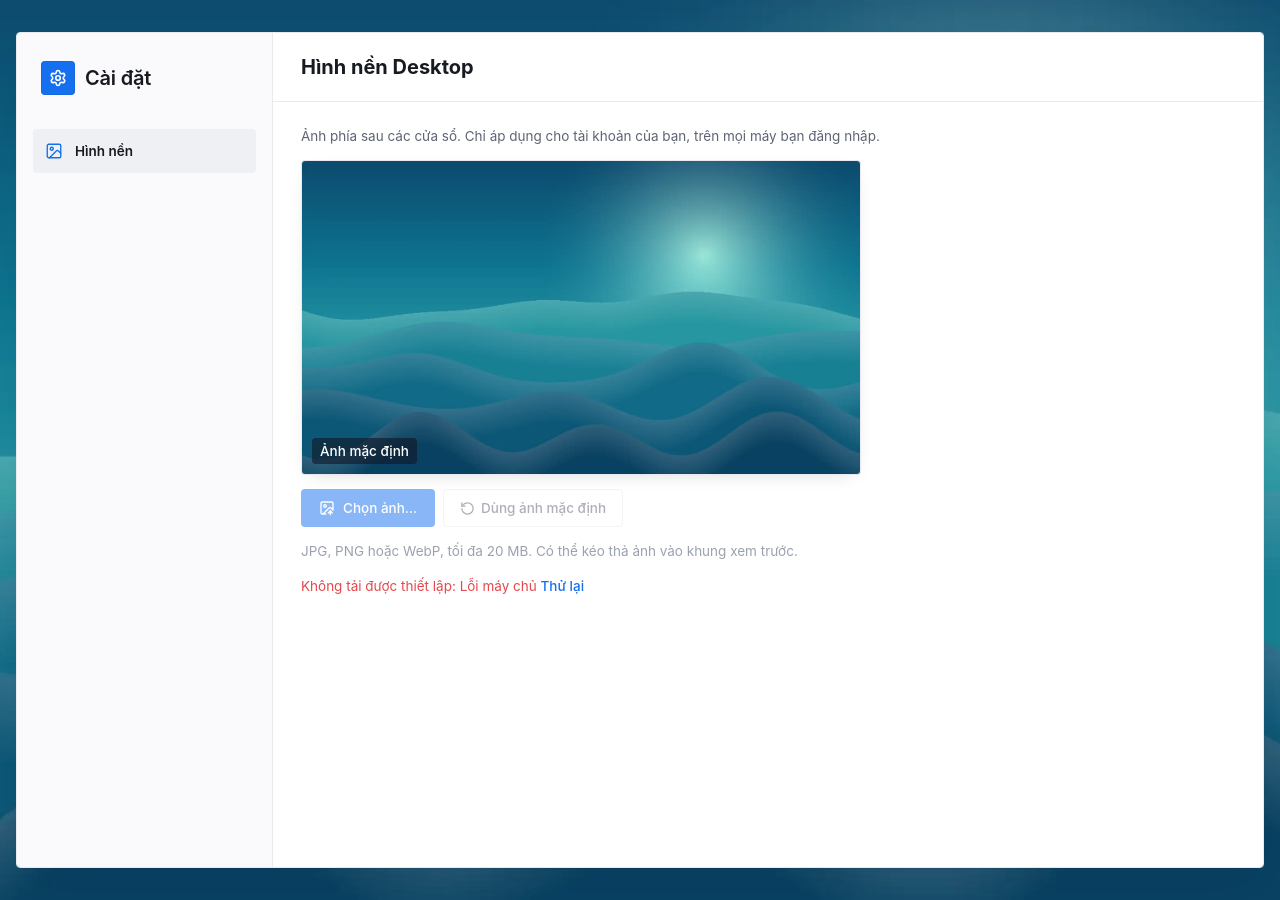
Test case: SettingsApp — desktop wallpaper (CONTRACT §10) › reports a failed read with a retry, and an expired session
Expected: the message with test id "settings-load-error" shows "Không tải được thiết lập: Lỗi máy chủ", x1=301 y1=576 x2=584 y2=596
Expected: the button with test id "wallpaper-choose" is disabled, x1=301 y1=489 x2=435 y2=527
Click the button "Thử lại" at (562, 586), box x1=540 y1=576 x2=584 y2=596
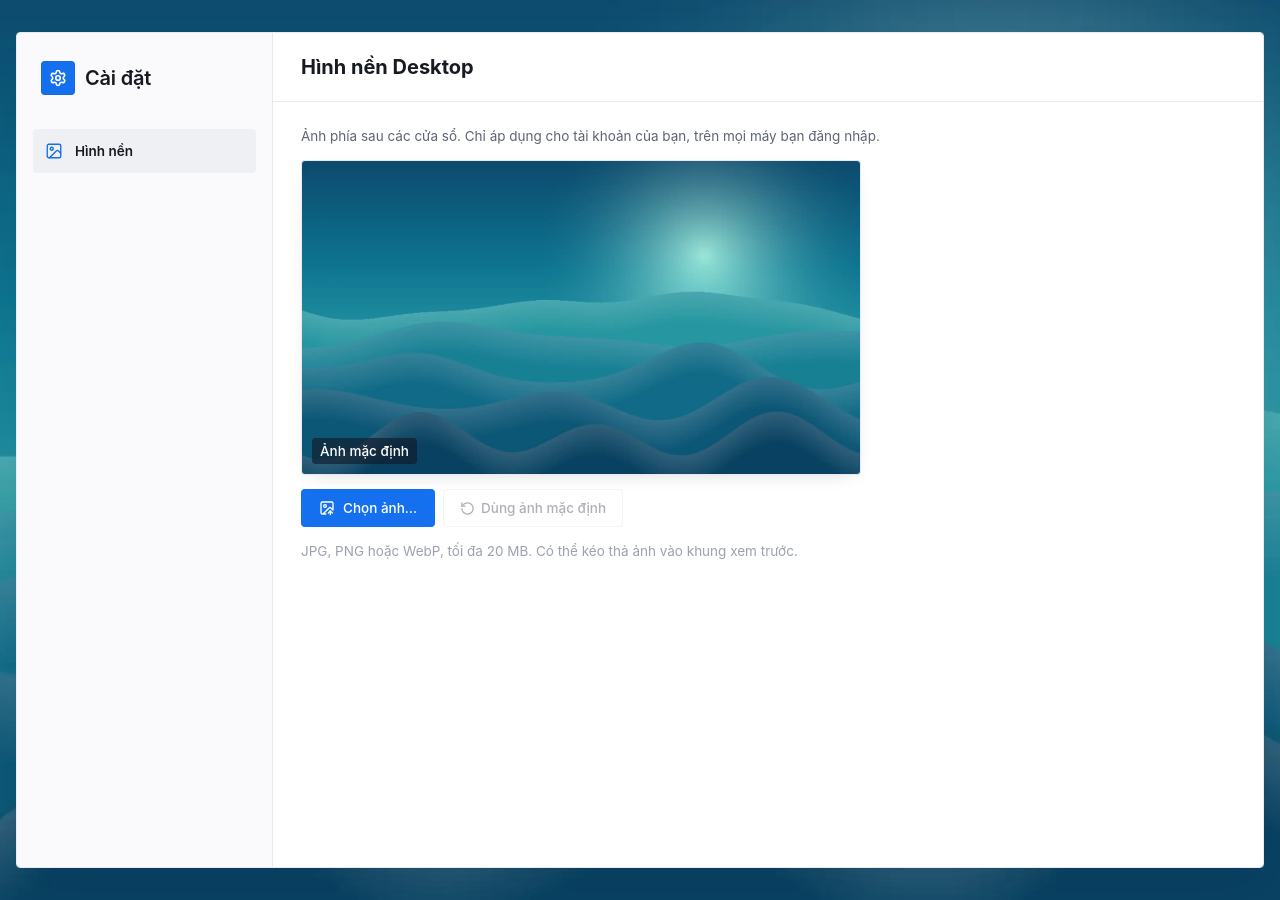
Expected: the message with test id "settings-load-error" is gone
Expected: the button with test id "wallpaper-choose" is enabled, x1=301 y1=489 x2=435 y2=527
